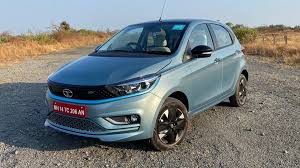Tiago: (42, 15, 250, 156)
